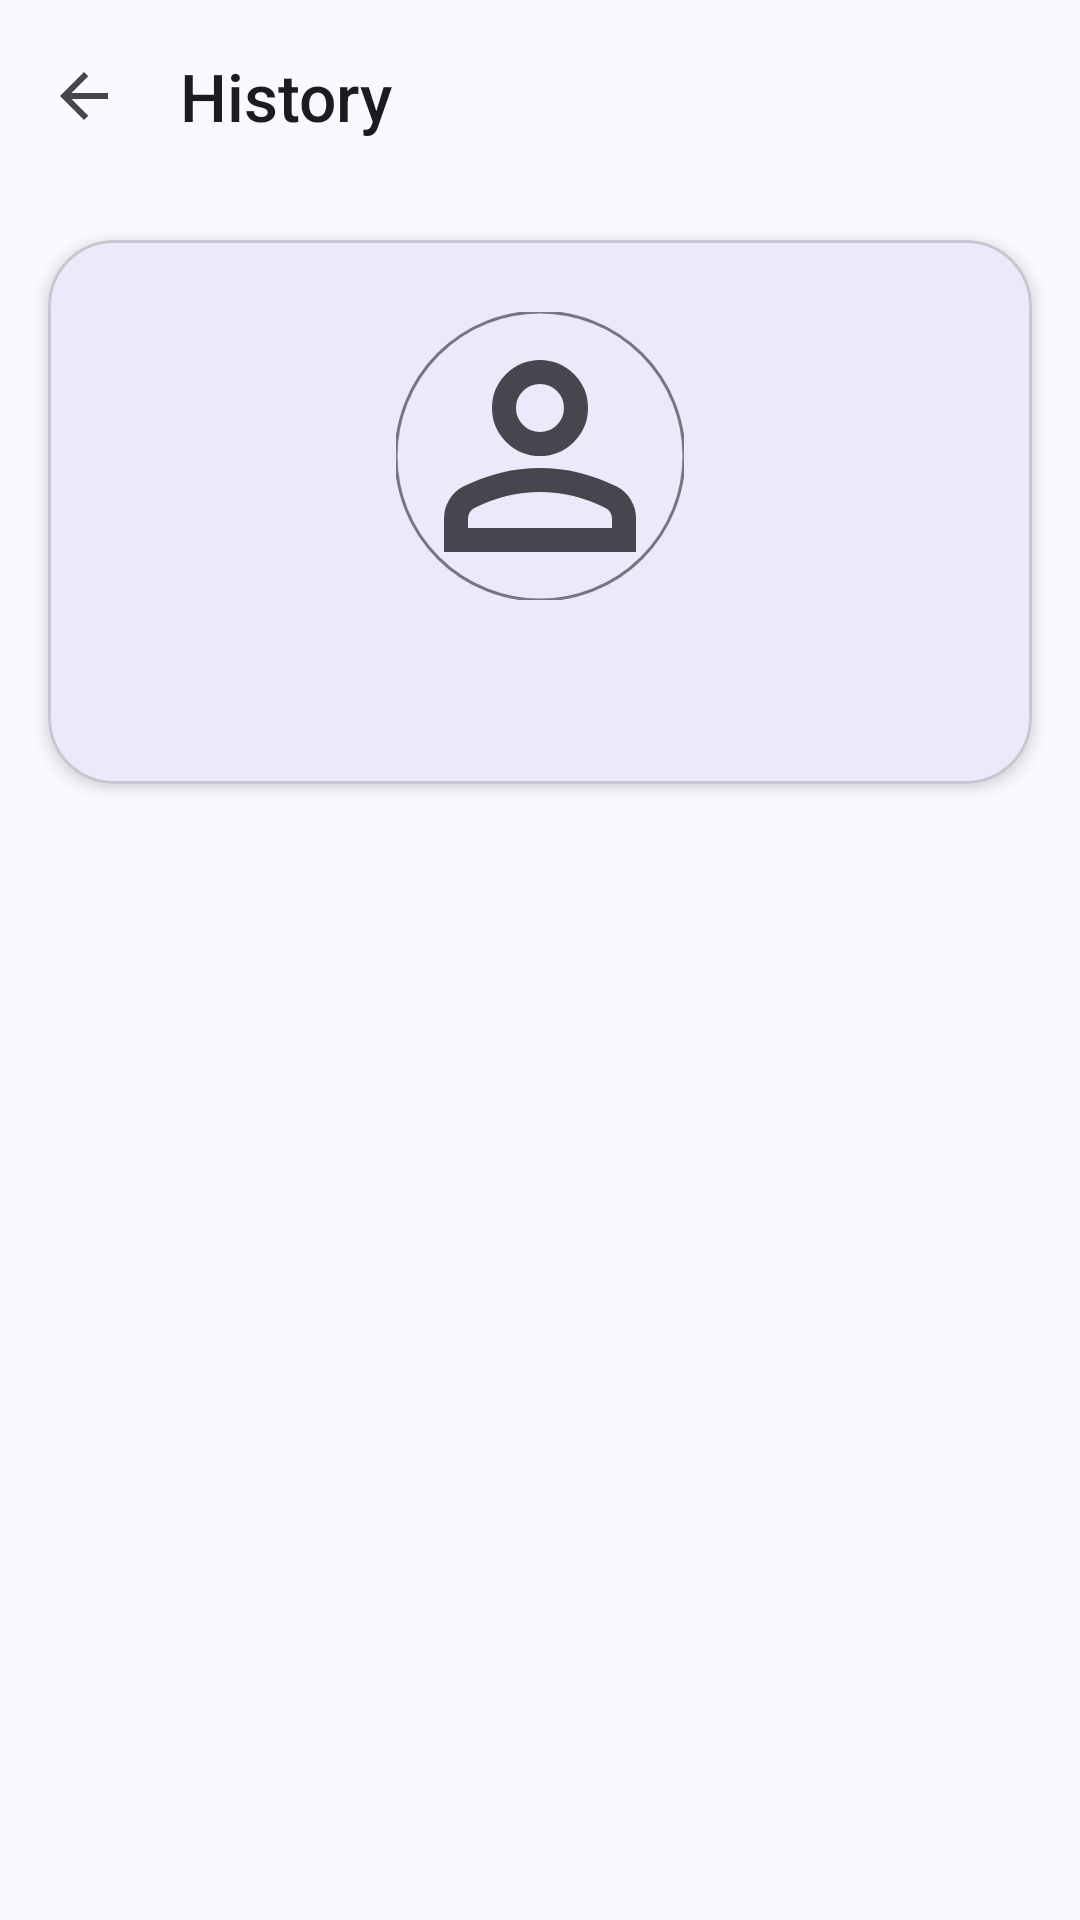

Icons on this 1080 × 1920 Android screen, each with the point to tap as (x,y):
Student photo: (540,456)
